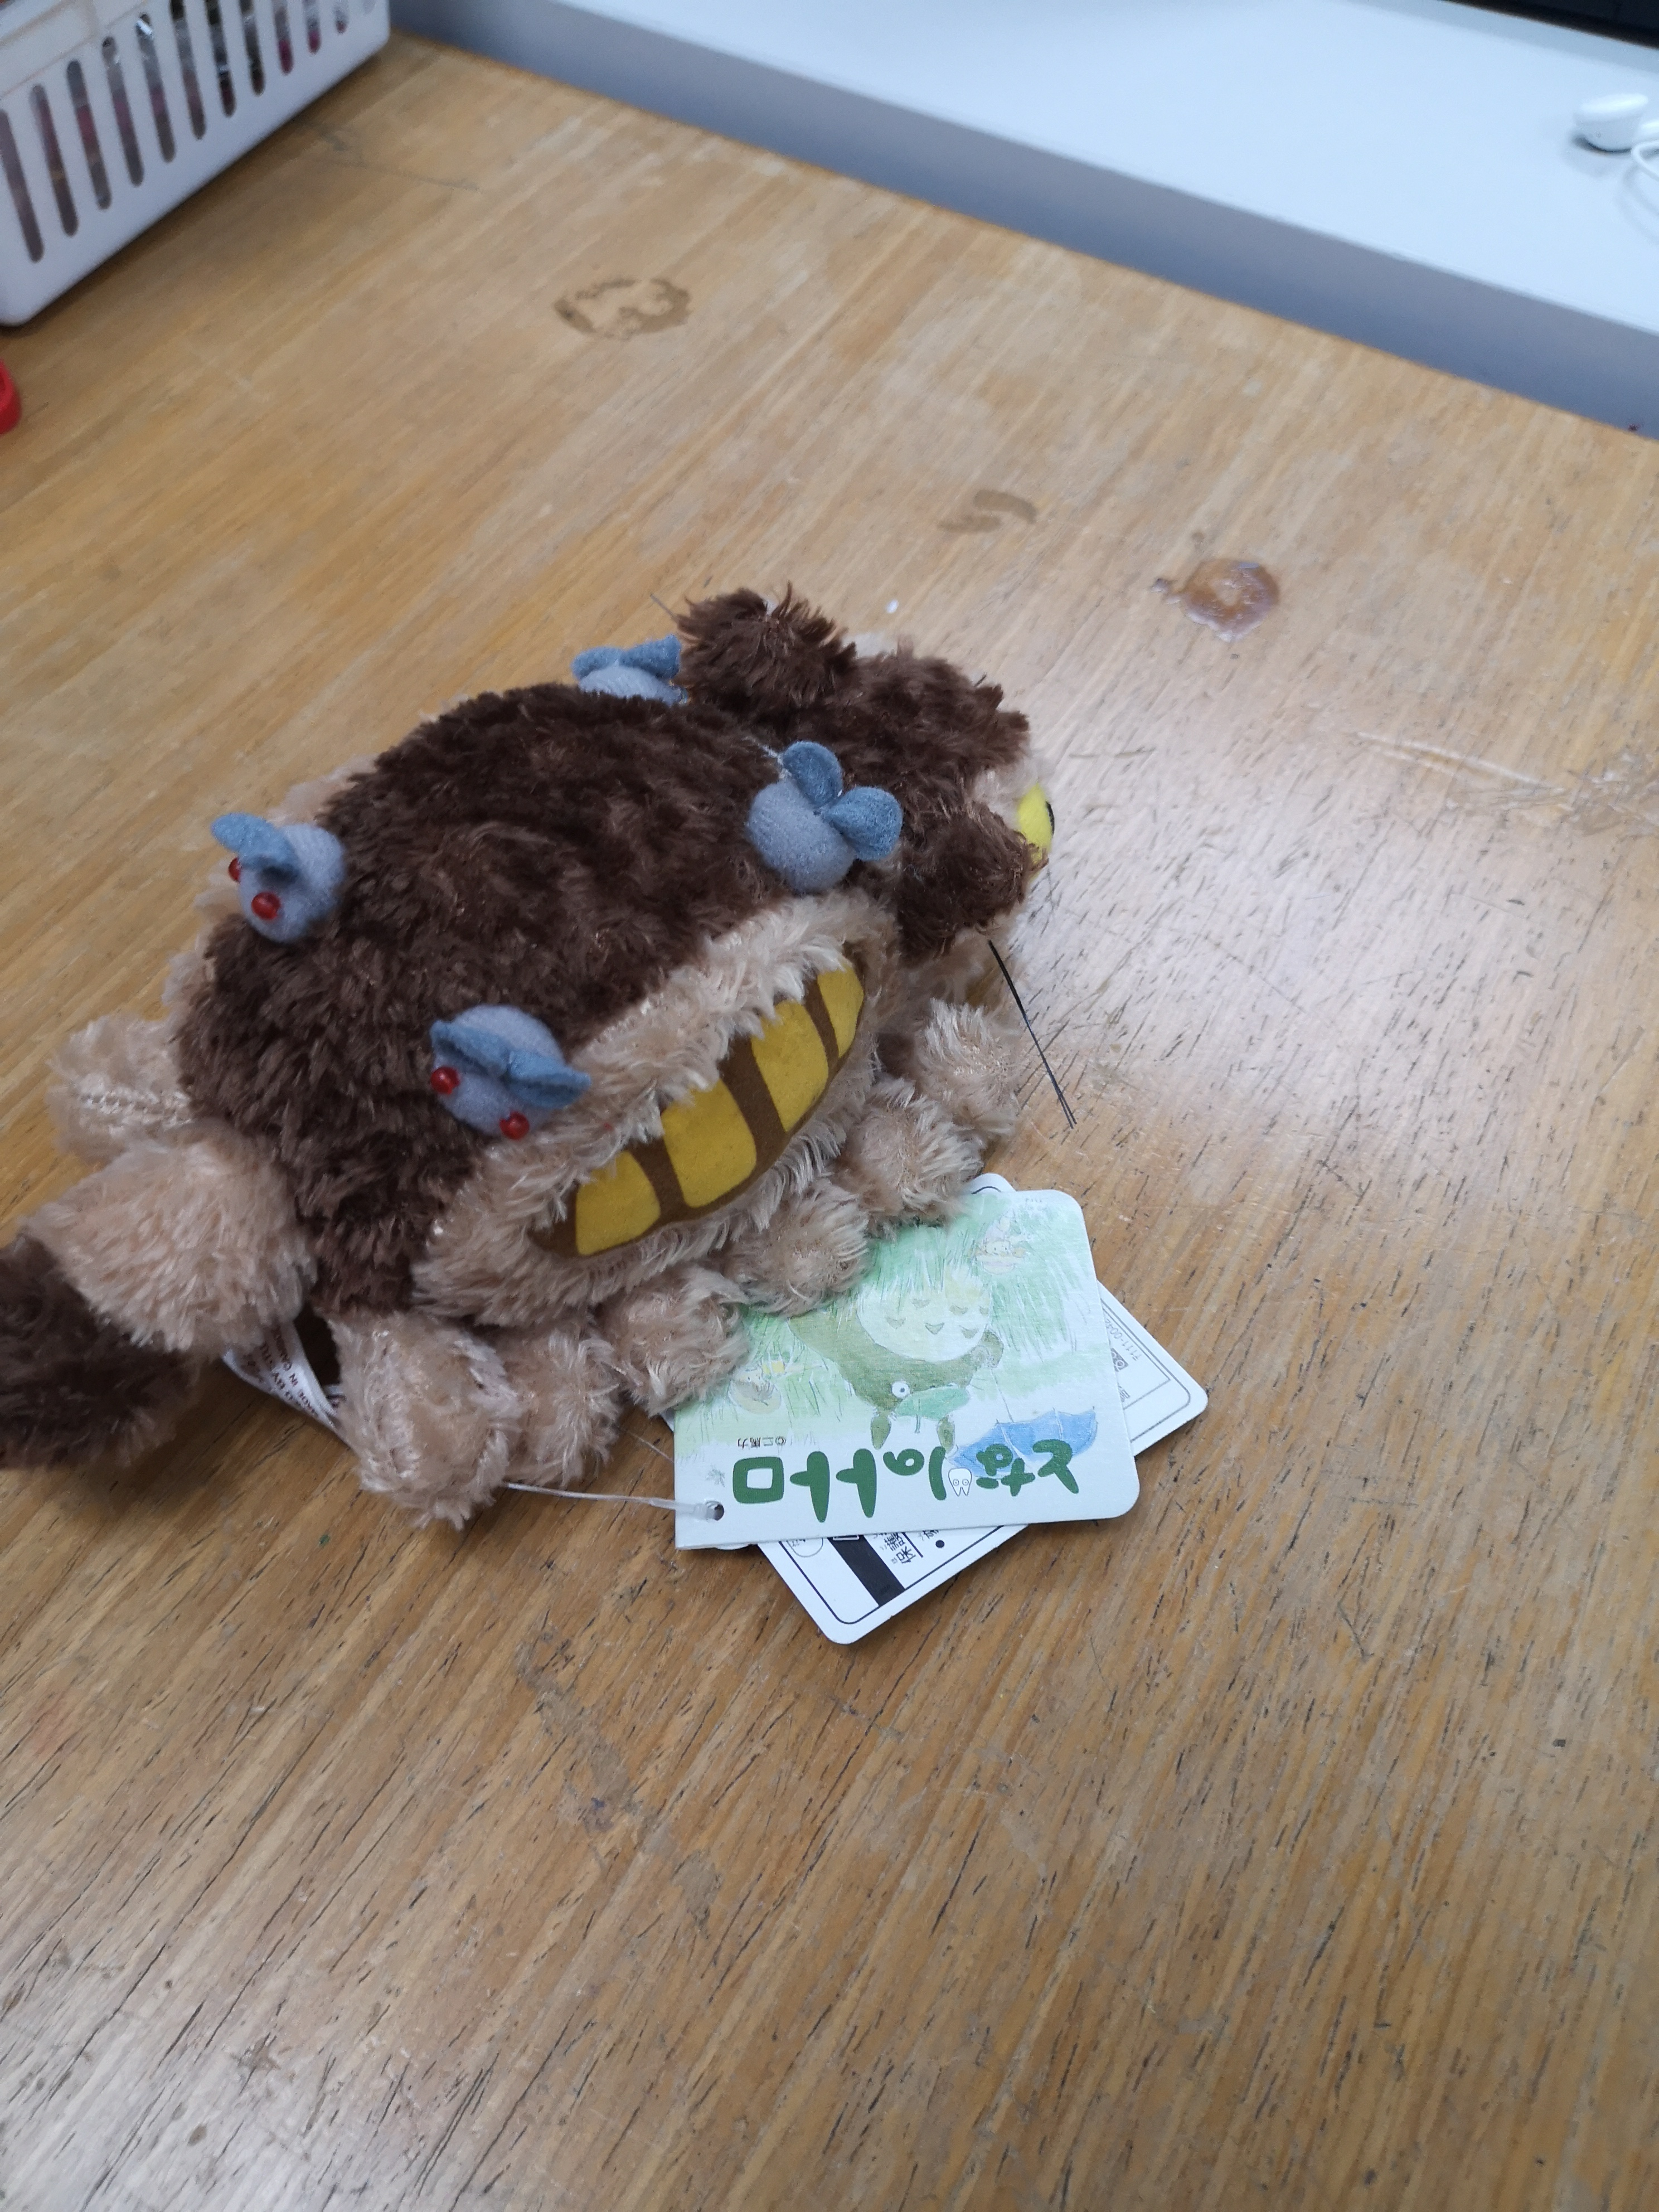nekobus: (7, 583, 1087, 1524)
